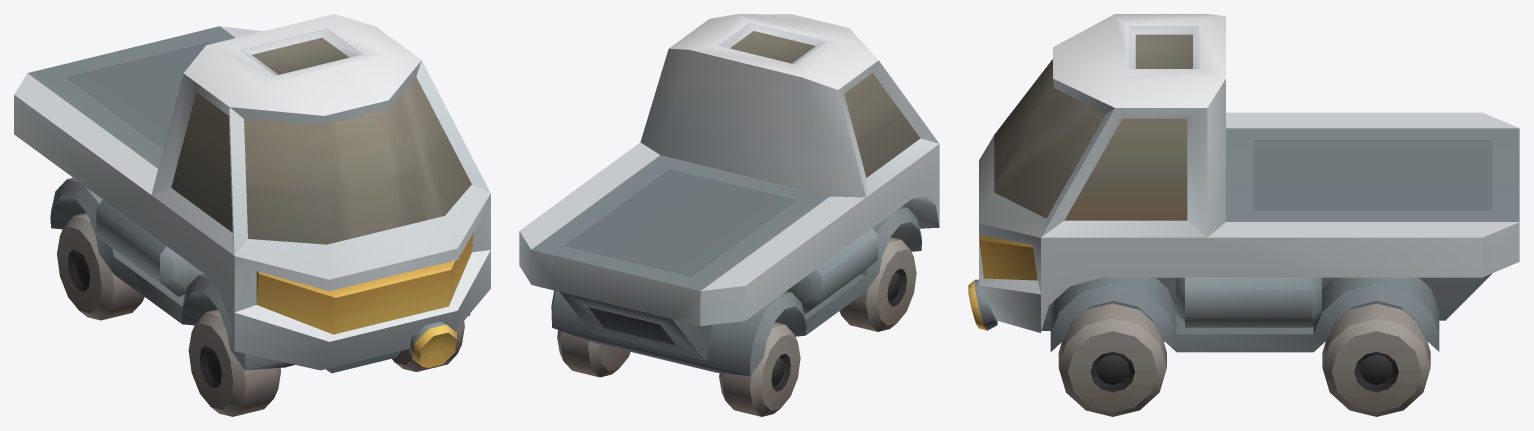
The model's file is kay-jipe-espacial.gltf.
3 renders of one model, left to right at view 1: azimuth 30°, elevation 25°; view 2: azimuth 150°, elevation 25°; view 3: azimuth 270°, elevation 25°, orthographic. The views are drawn at different scales.
Visible parts, largest first — view 1: spacetruck; view 2: spacetruck; view 3: spacetruck.
Part boxes in pixels (left/top/right/bottom): spacetruck: left=14, top=14, right=490, bottom=416; spacetruck: left=519, top=14, right=939, bottom=416; spacetruck: left=968, top=14, right=1519, bottom=416.
Size of the model in its own units: 1.27 by 1.47 by 2.32.
Materials: 1 (1 with a texture image).
